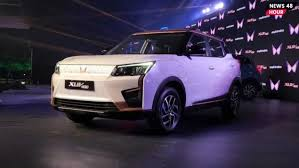XUV 400: (49, 28, 245, 133)
